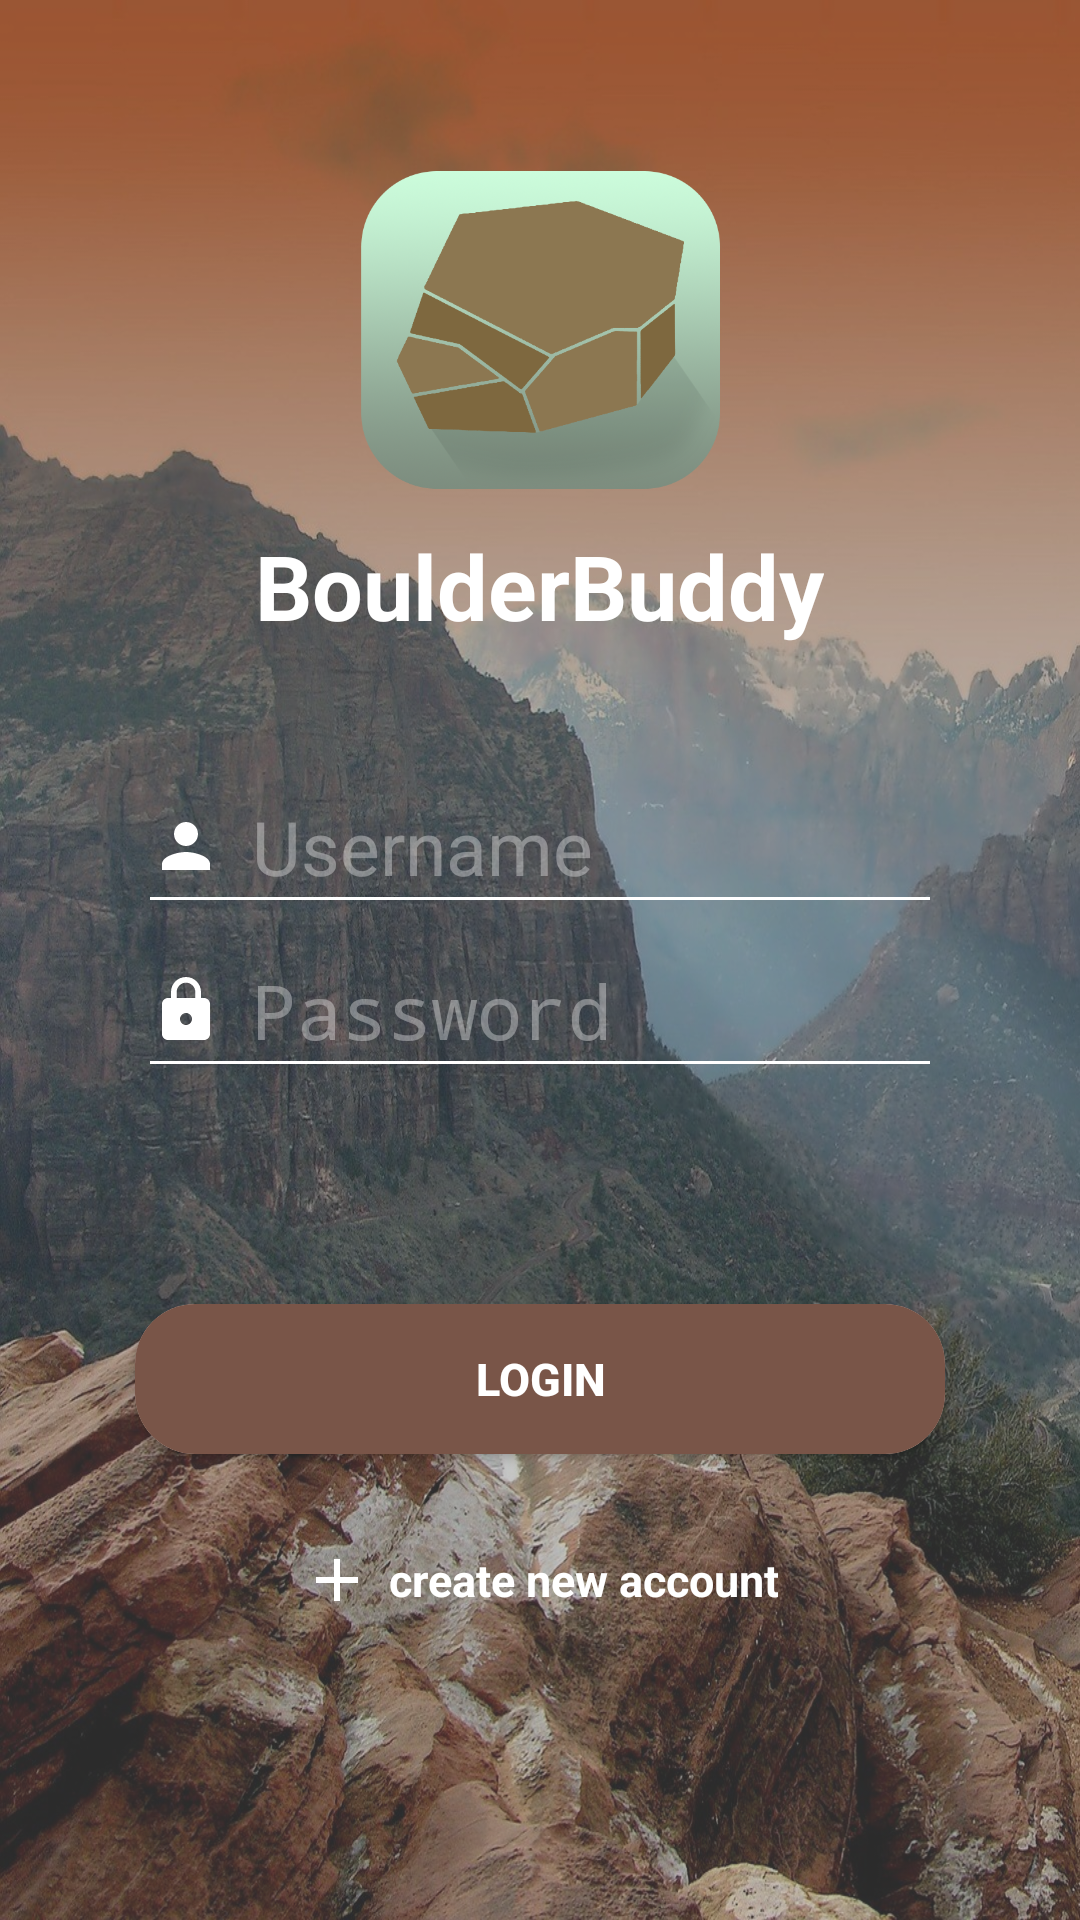

Icons on this 1080 x 1920 Android screen, each with the point to tap as (x,y):
app: (540,330)
